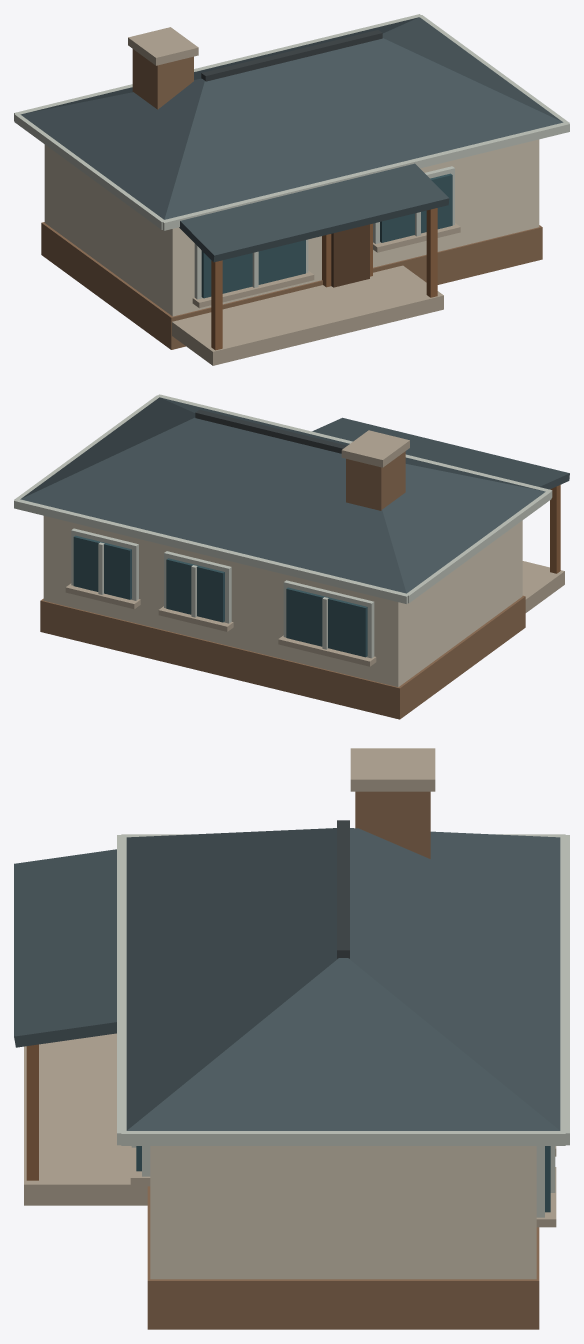
File: lane-bungalow.glb
The picture shows the model from 3 angles, top to bottom: view 1: azimuth 30°, elevation 25°; view 2: azimuth 150°, elevation 25°; view 3: azimuth 270°, elevation 25°; orthographic projection. The views are drawn at different scales.
Parts seen in each view (by area): view 1: Hipped slate roof, Low rendered dwelling, Loggia slab, Veranda awning, Brick plinth, Eave fascia.001, Recessed glass.003, Brick chimney, Porch door, Ridge flashing, End fascia, Stone chimney cap (+10 smaller); view 2: Hipped slate roof, Low rendered dwelling, Brick plinth, Veranda awning, Eave fascia, Recessed glass, Recessed glass.001, Recessed glass.002, Brick chimney, End fascia, Stone chimney cap, Ridge flashing (+10 smaller); view 3: Hipped slate roof, Low rendered dwelling, Brick plinth, Veranda awning, Loggia slab, End fascia.001, Brick chimney, Stone chimney cap, Eave fascia, Eave fascia.001, Ridge flashing, Veranda post.001.
Boxes of the visible parts, left/top/right/bottom form: Hipped slate roof: left=20, top=17, right=563, bottom=219; Low rendered dwelling: left=44, top=139, right=539, bottom=316; Loggia slab: left=172, top=265, right=443, bottom=365; Veranda awning: left=179, top=163, right=449, bottom=262; Brick plinth: left=41, top=222, right=542, bottom=349; Eave fascia.001: left=162, top=123, right=569, bottom=230; Recessed glass.003: left=201, top=240, right=305, bottom=298; Brick chimney: left=132, top=49, right=193, bottom=109; Porch door: left=331, top=224, right=369, bottom=287; Ridge flashing: left=201, top=30, right=382, bottom=81; End fascia: left=14, top=114, right=167, bottom=229; Stone chimney cap: left=128, top=27, right=198, bottom=65; Hipped slate roof: left=20, top=397, right=545, bottom=593; Low rendered dwelling: left=43, top=516, right=522, bottom=686; Brick plinth: left=40, top=595, right=525, bottom=719; Veranda awning: left=312, top=417, right=569, bottom=489; Eave fascia: left=14, top=498, right=409, bottom=604; Recessed glass: left=286, top=587, right=367, bottom=657; Recessed glass.001: left=166, top=558, right=224, bottom=622; Recessed glass.002: left=73, top=535, right=131, bottom=599; Brick chimney: left=346, top=451, right=405, bottom=510; End fascia: left=407, top=490, right=551, bottom=603; Stone chimney cap: left=341, top=430, right=409, bottom=467; Ridge flashing: left=195, top=409, right=346, bottom=453; Hipped slate roof: left=126, top=828, right=560, bottom=1130; Low rendered dwelling: left=150, top=1146, right=536, bottom=1279; Brick plinth: left=147, top=1186, right=539, bottom=1329; Veranda awning: left=14, top=849, right=116, bottom=1047; Loggia slab: left=24, top=1033, right=147, bottom=1205; End fascia.001: left=121, top=1129, right=565, bottom=1145; Brick chimney: left=355, top=791, right=430, bottom=858; Stone chimney cap: left=350, top=748, right=435, bottom=791; Eave fascia: left=559, top=835, right=569, bottom=1145; Eave fascia.001: left=117, top=835, right=127, bottom=1145; Ridge flashing: left=337, top=820, right=349, bottom=958; Veranda post.001: left=26, top=1044, right=38, bottom=1180.
Bounding box in the file's own units: 10.32 × 5.56 × 8.09.
